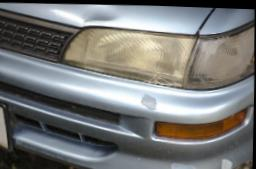Bonnet: (0, 0, 216, 32)
Bumper: (57, 71, 255, 169)
